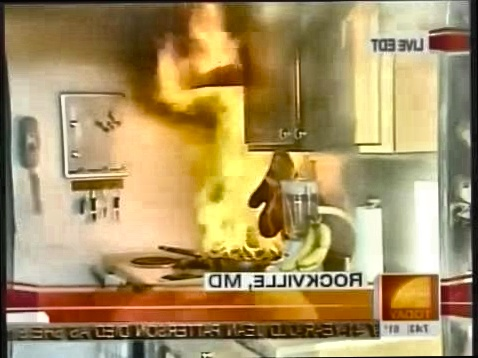fire: (179, 3, 252, 252)
